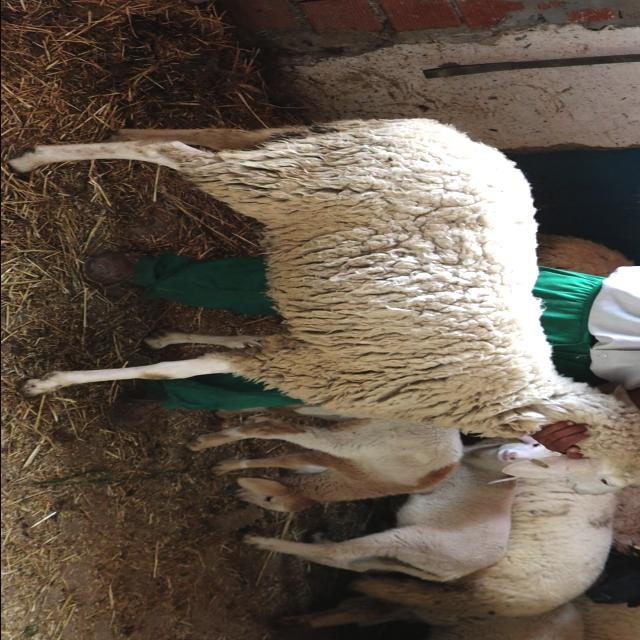Score_3: (9, 118, 640, 495)
